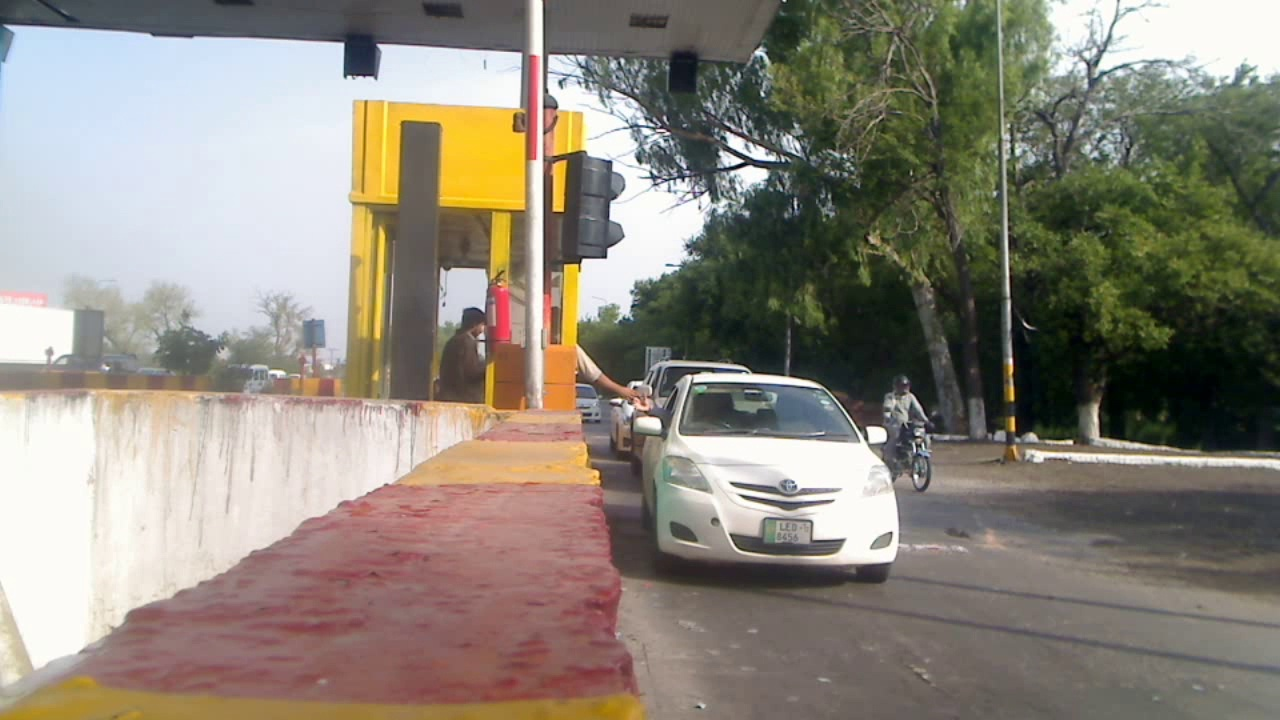Number Plate (Car): (766, 519, 811, 544)
